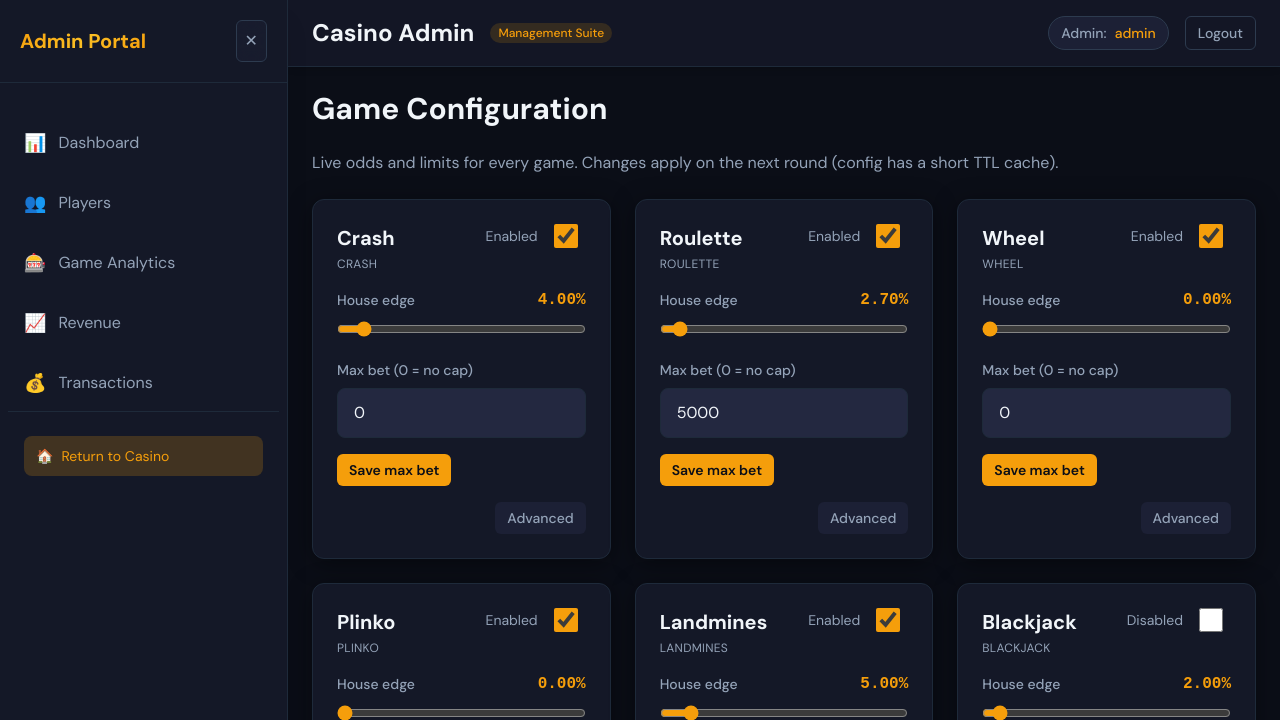
Test case: GamesConfigPage › advanced payout editor modal › shows the formula-only message for crash
The width and height of the screenshot is (1280, 720).
Click the button with test id "advanced-crash" at (540, 518), box [495,502,586,534]
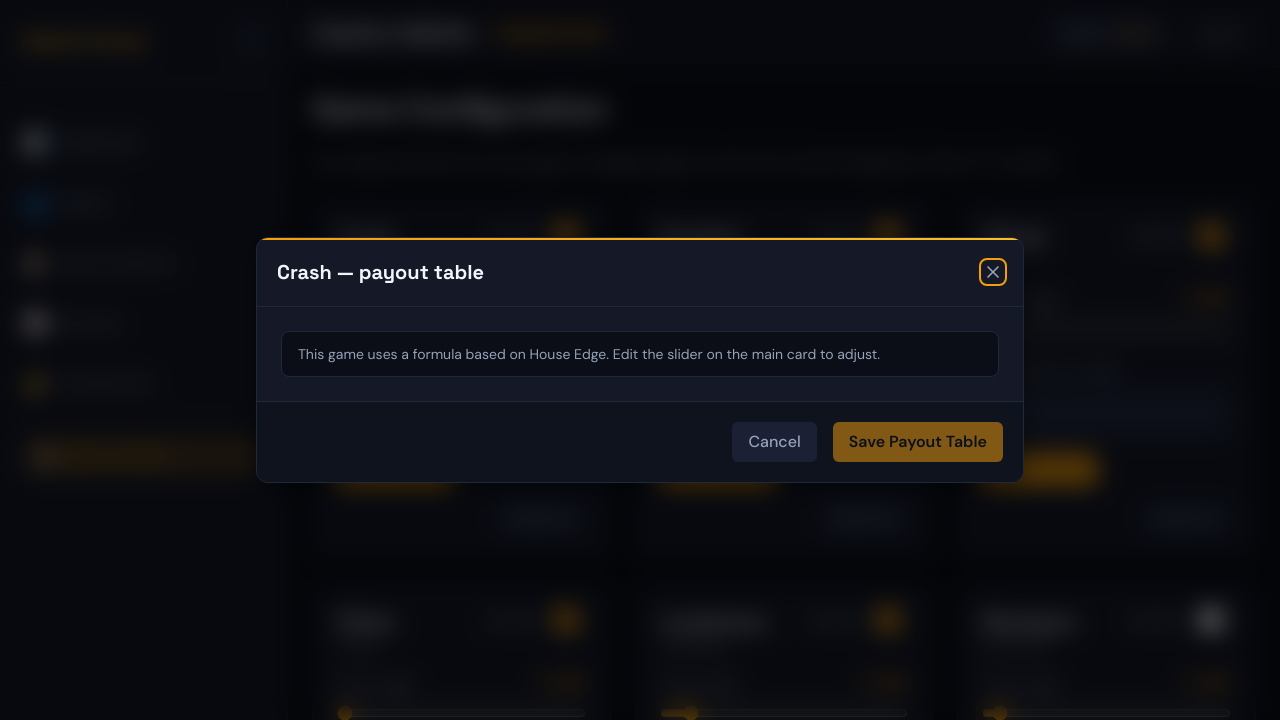
Now the text with test id "formula-only-crash" is shown, box [281,331,999,377]
